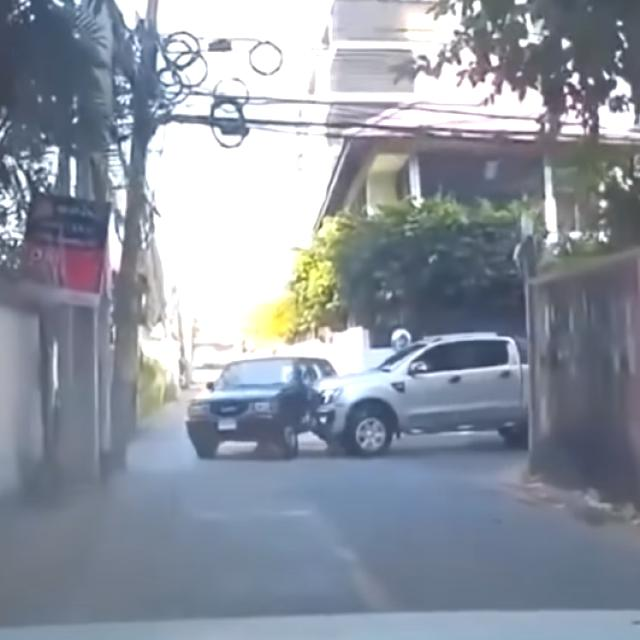accident: (188, 332, 530, 461)
